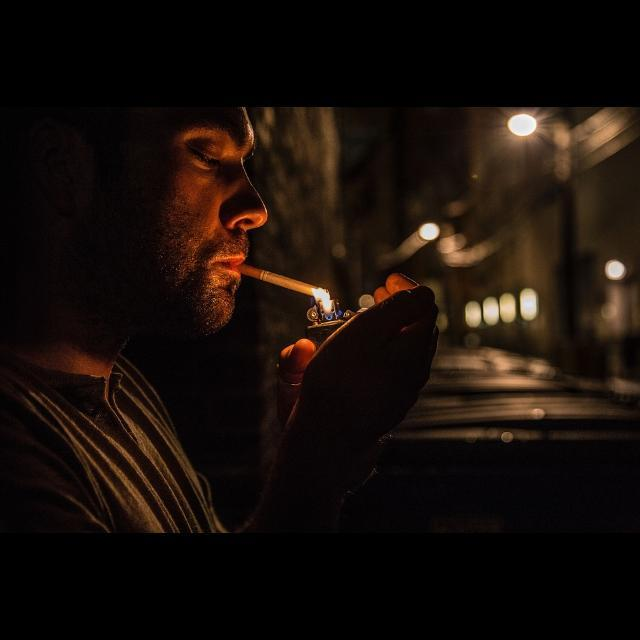rokok: (243, 257, 327, 303)
